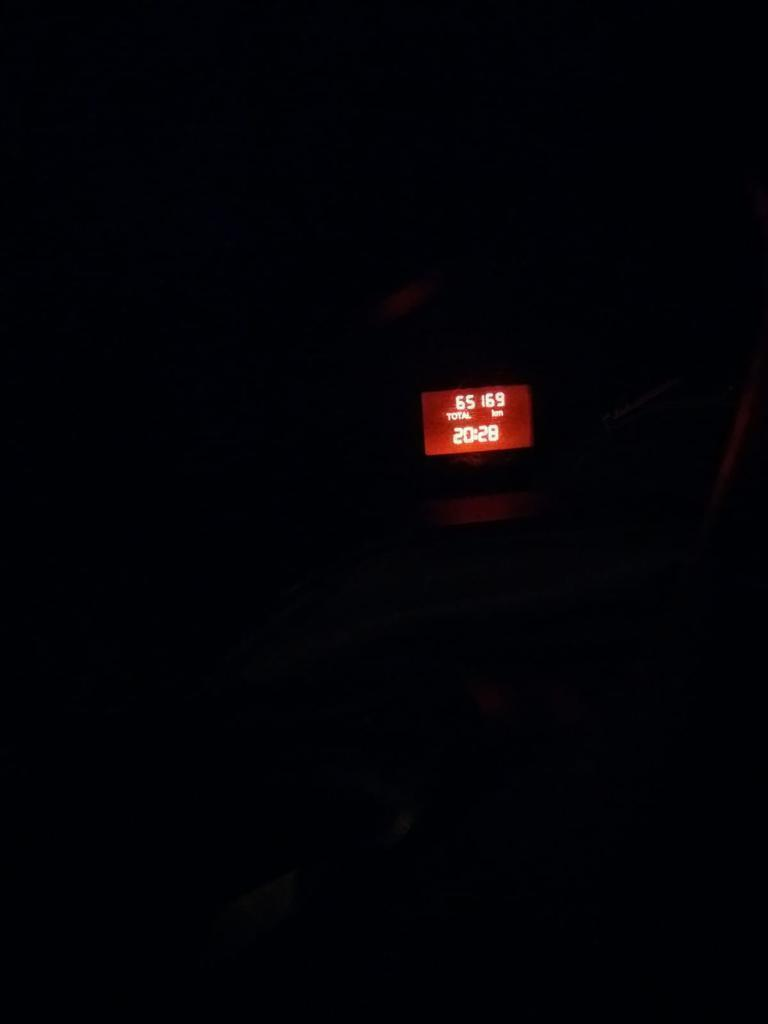0: (463, 426, 473, 443)
1: (480, 394, 485, 407)
2: (452, 427, 463, 444), (477, 425, 488, 442)
5: (465, 394, 476, 409)
6: (455, 395, 465, 409), (485, 392, 494, 407)
8: (488, 424, 498, 441)
9: (495, 391, 505, 407)
X: (473, 427, 478, 440), (445, 412, 451, 421), (496, 409, 503, 416), (451, 412, 457, 420), (461, 411, 467, 419), (491, 408, 496, 417), (466, 410, 471, 419), (457, 411, 461, 419)
odometer: (419, 382, 534, 457)
